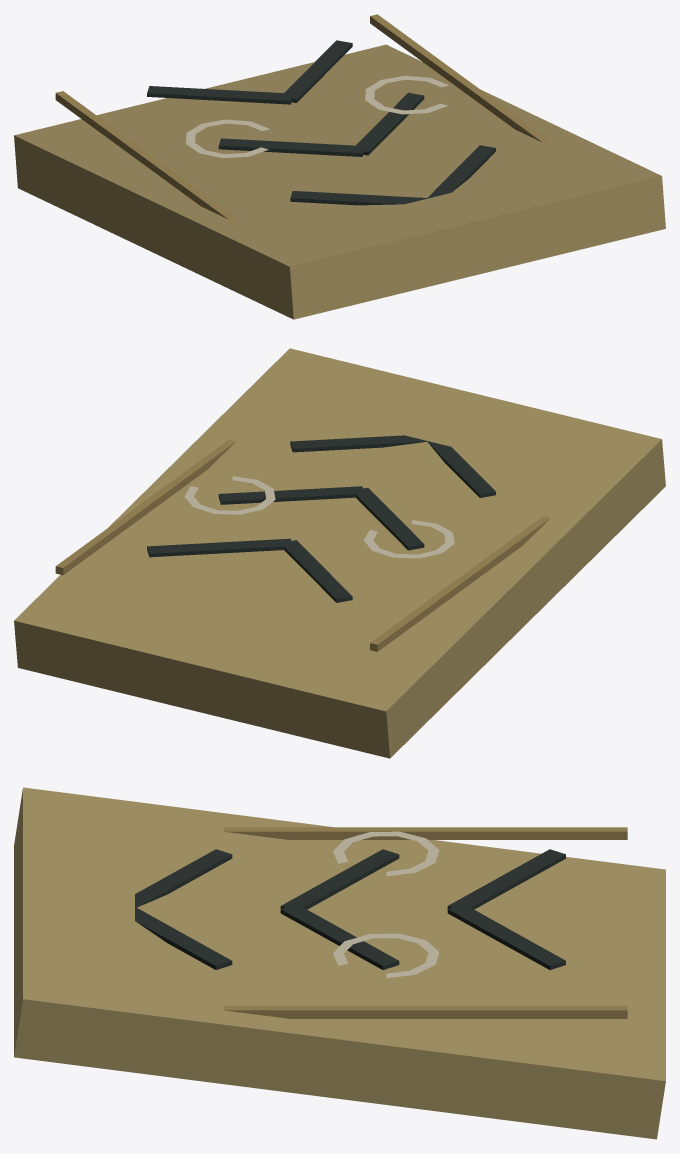
The model's file is cloud_pad.glb.
The picture shows the model from 3 angles, top to bottom: view 1: azimuth 30°, elevation 25°; view 2: azimuth 150°, elevation 25°; view 3: azimuth 270°, elevation 25°; orthographic projection. The views are drawn at different scales.
Visible parts, largest first — view 1: cloud_pad; view 2: cloud_pad; view 3: cloud_pad.
Part boxes in pixels (x1,y1,x2,y2): cloud_pad: (14,14,665,319); cloud_pad: (14,348,665,758); cloud_pad: (14,787,665,1139).
Bounding box in the file's own units: 2.7 × 0.835 × 3.51.
